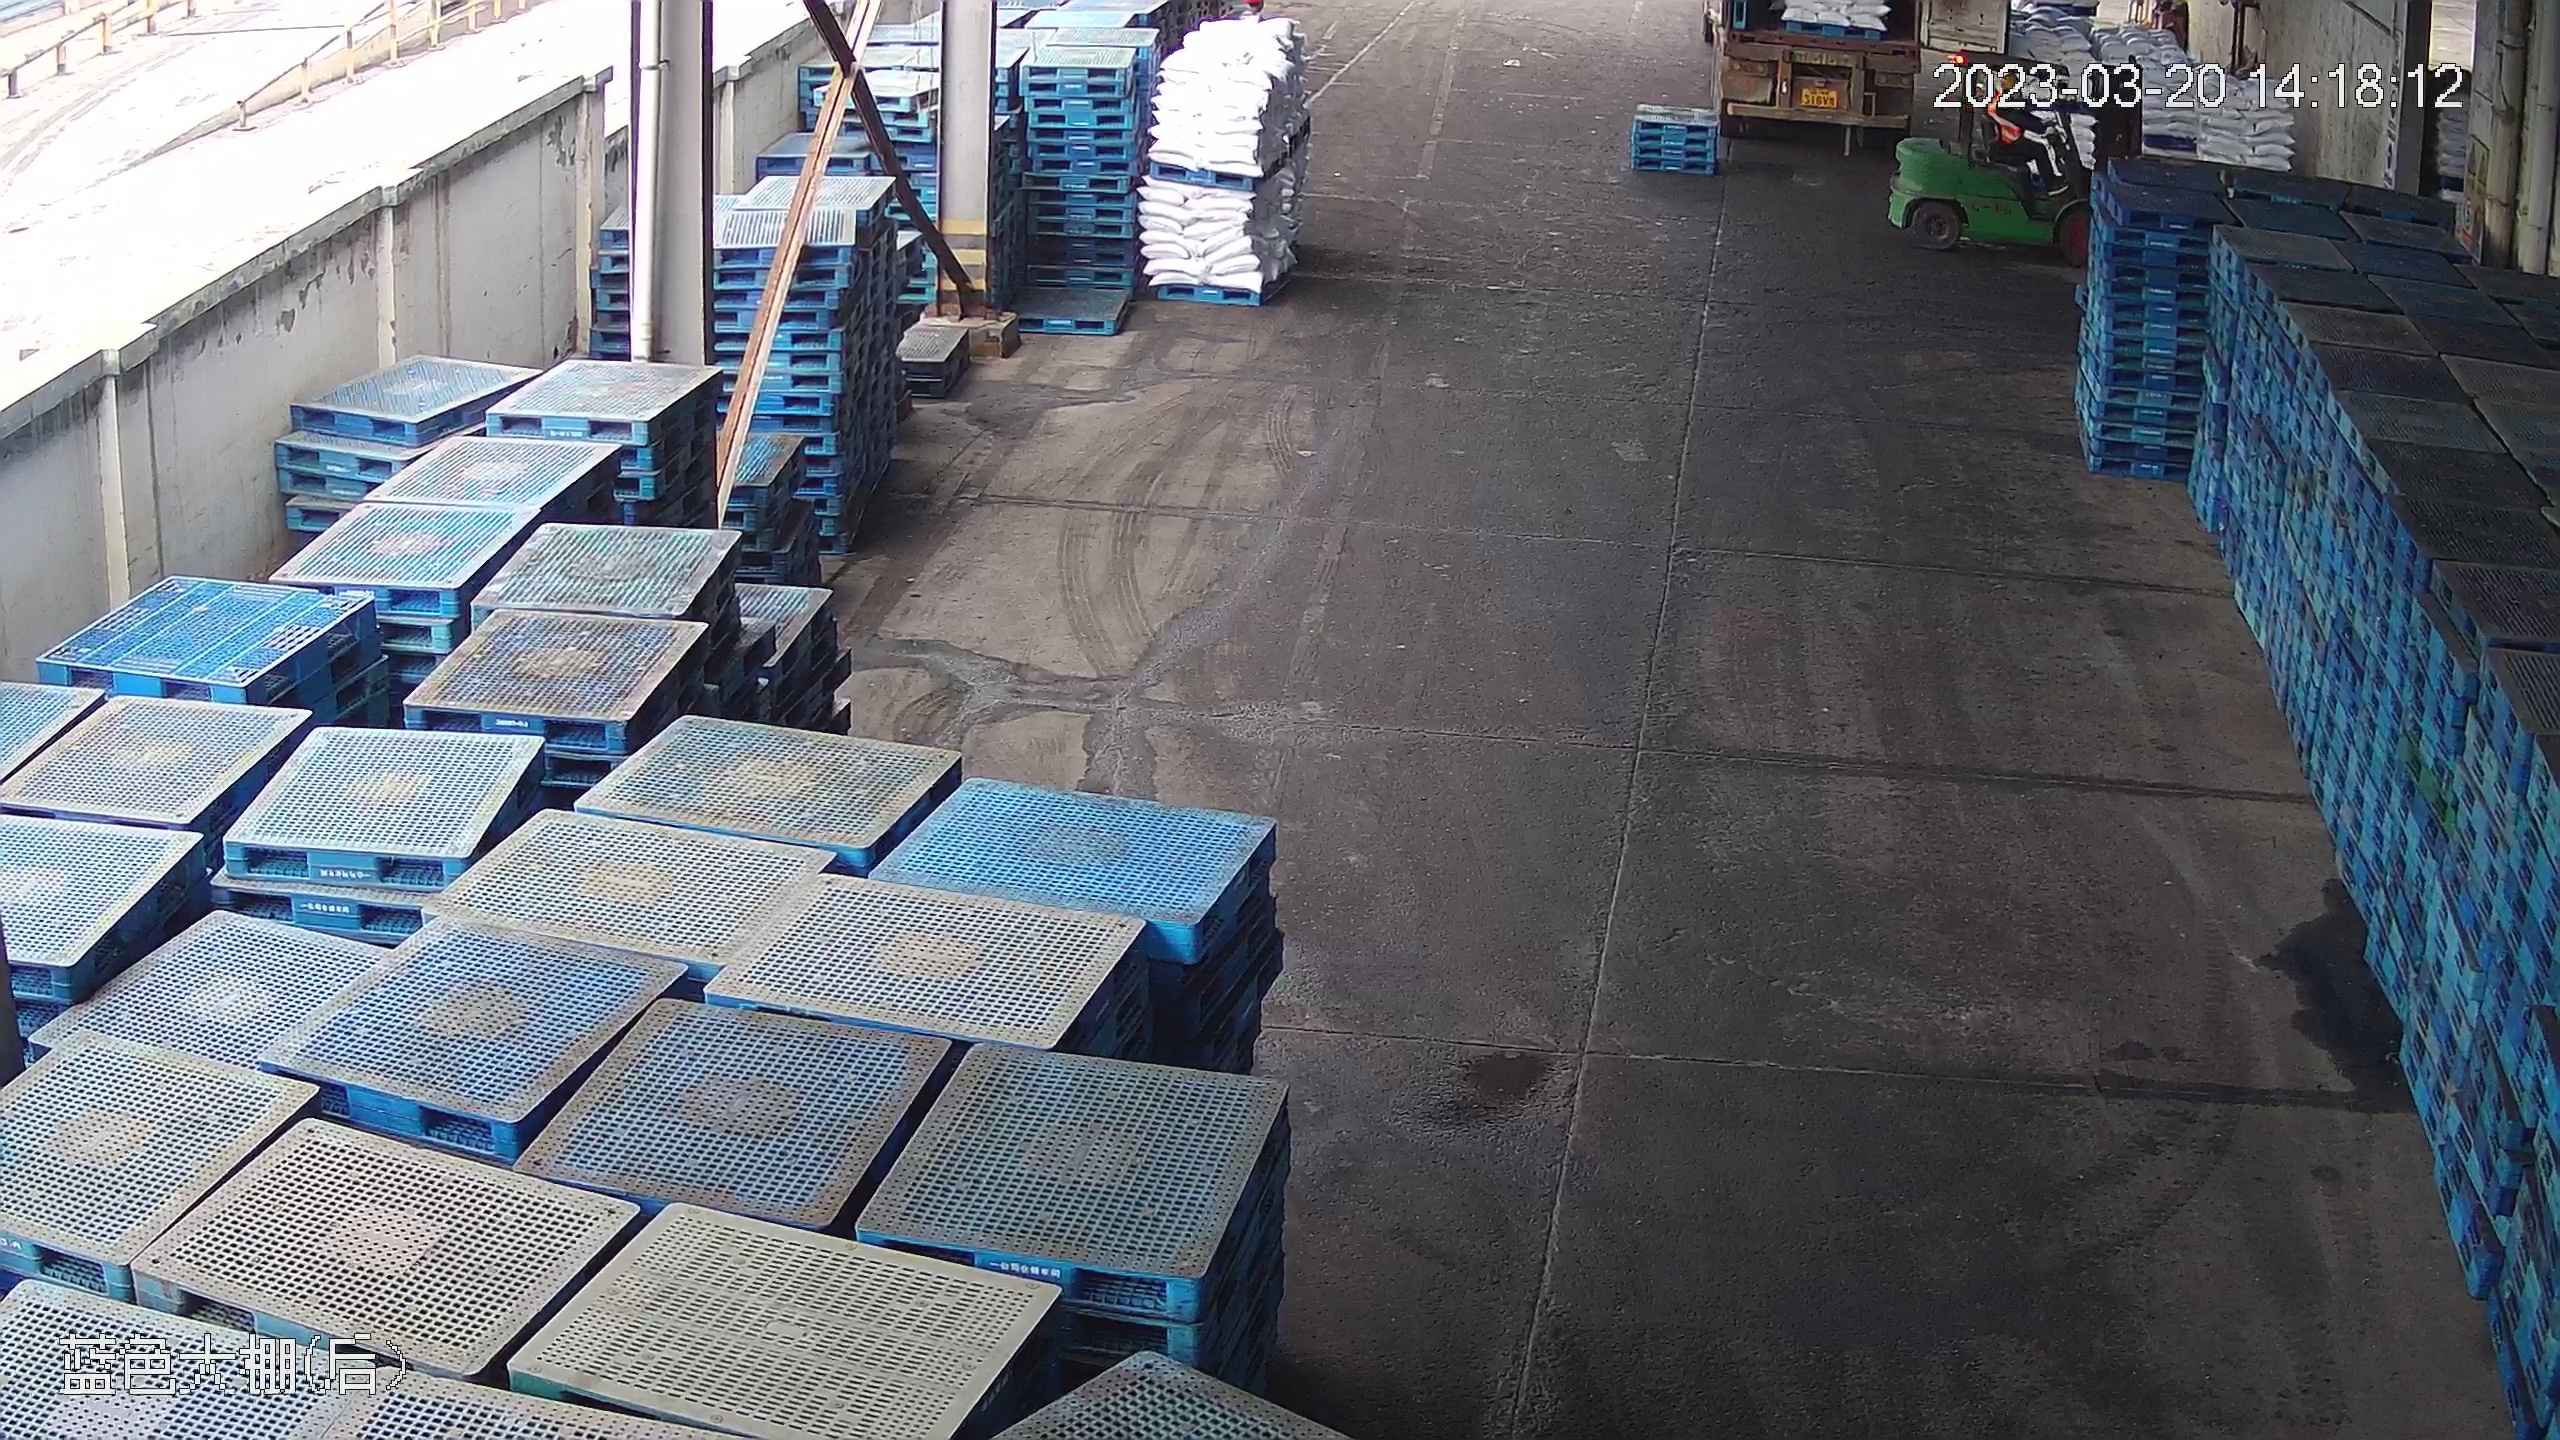helmet: (2000, 73, 2015, 90)
people: (1982, 62, 2058, 177)
truck: (1700, 1, 1914, 138)
